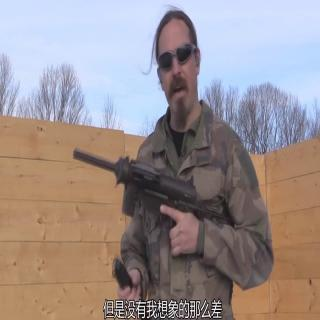gun: (59, 126, 259, 301)
